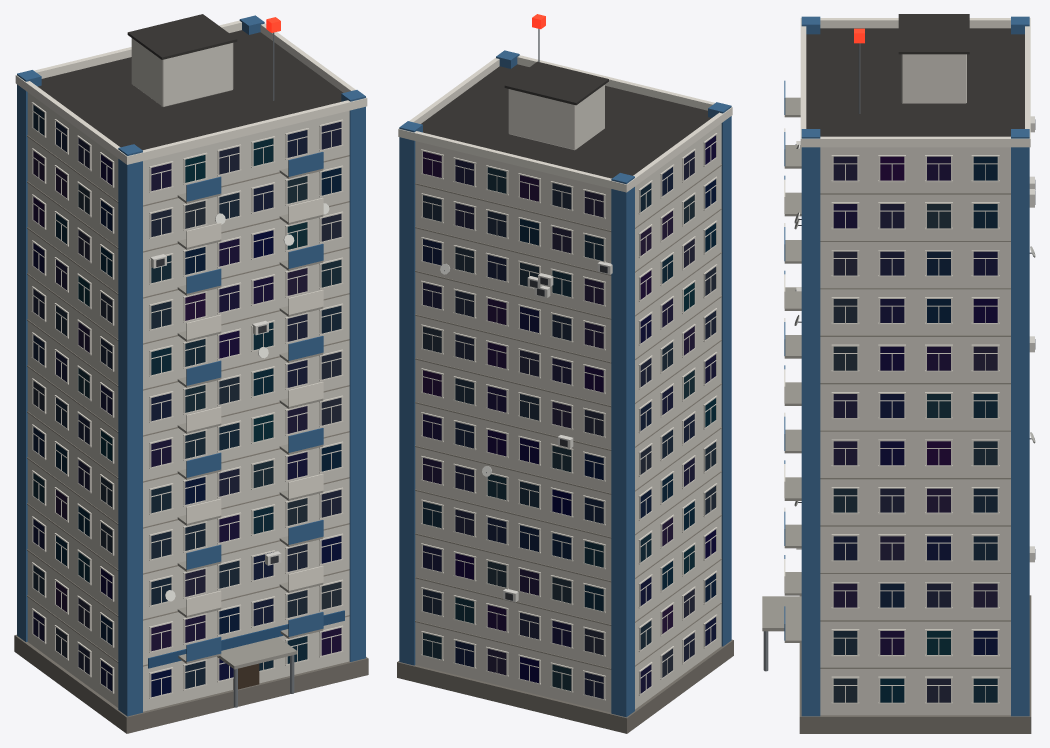
File: tower_a.glb
3 renders of one model, left to right at view 1: azimuth 30°, elevation 25°; view 2: azimuth 150°, elevation 25°; view 3: azimuth 270°, elevation 25°, orthographic. The views are drawn at different scales.
Parts seen in each view (by area): view 1: tower_a; view 2: tower_a; view 3: tower_a.
Part boxes in pixels (x1=…): tower_a: x1=14, y1=14, x2=368, y2=733; tower_a: x1=397, y1=14, x2=733, y2=733; tower_a: x1=762, y1=14, x2=1035, y2=733.
Bounding box in the file's own units: 15.4 × 39.54 × 14.62.
